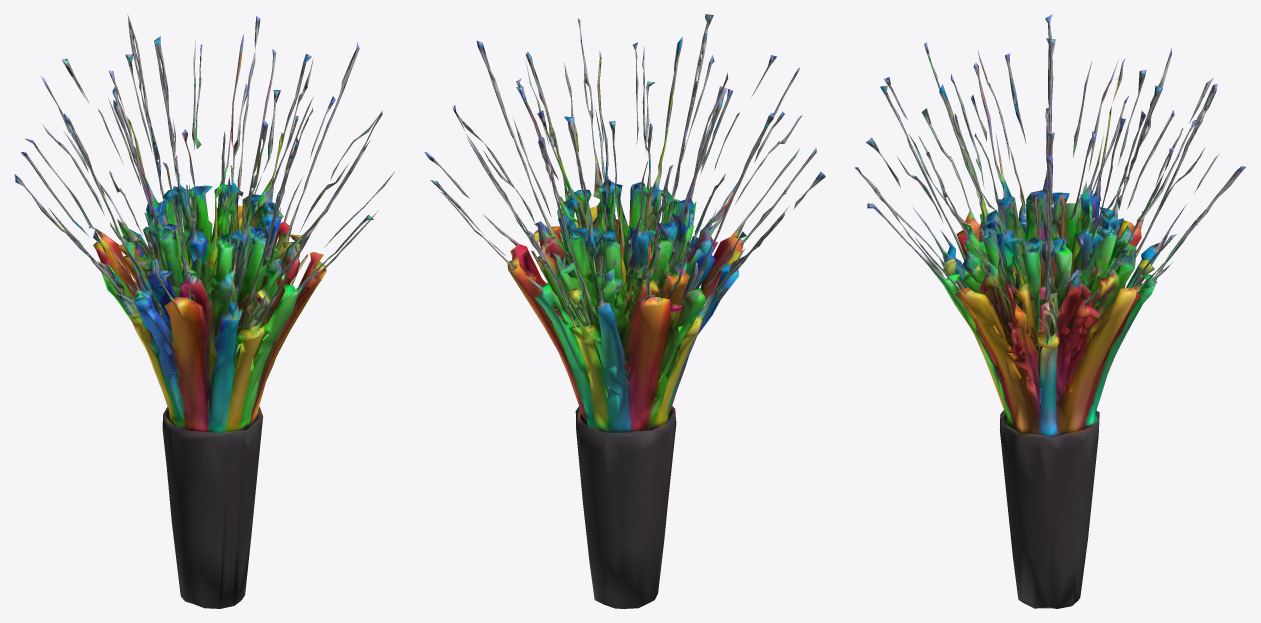
Rendered from Fiber.glb.
3 renders of one model, left to right at view 1: azimuth 30°, elevation 25°; view 2: azimuth 150°, elevation 25°; view 3: azimuth 270°, elevation 25°, orthographic.
Size of the model in its own units: 1.31 by 2 by 1.38.
Materials: 1 (1 with a texture image).
